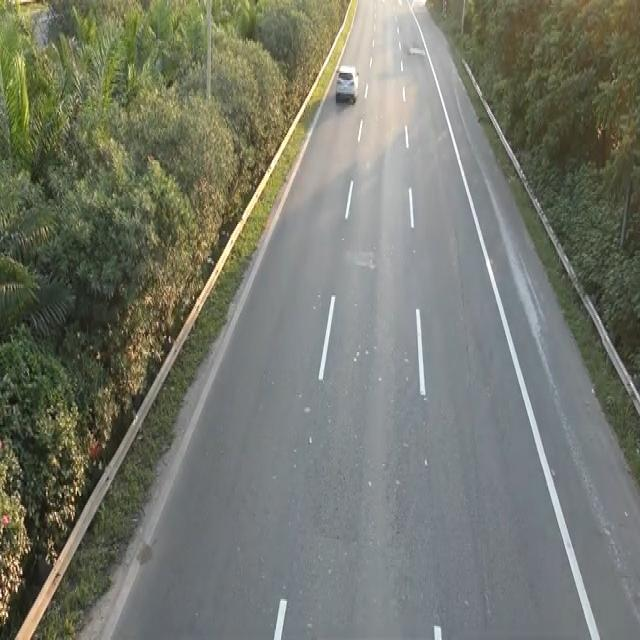car: (334, 62, 360, 105)
